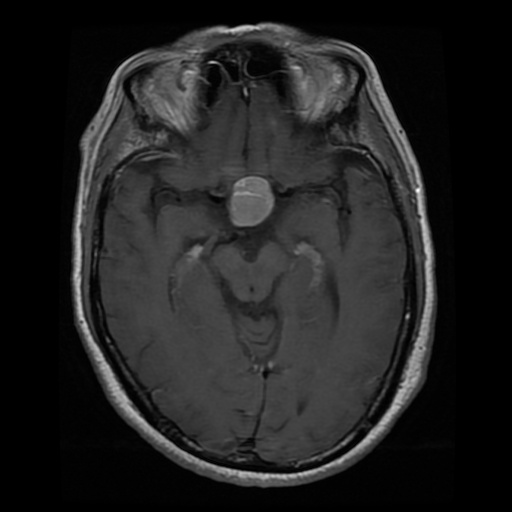pituitary: (229, 174, 277, 227)
